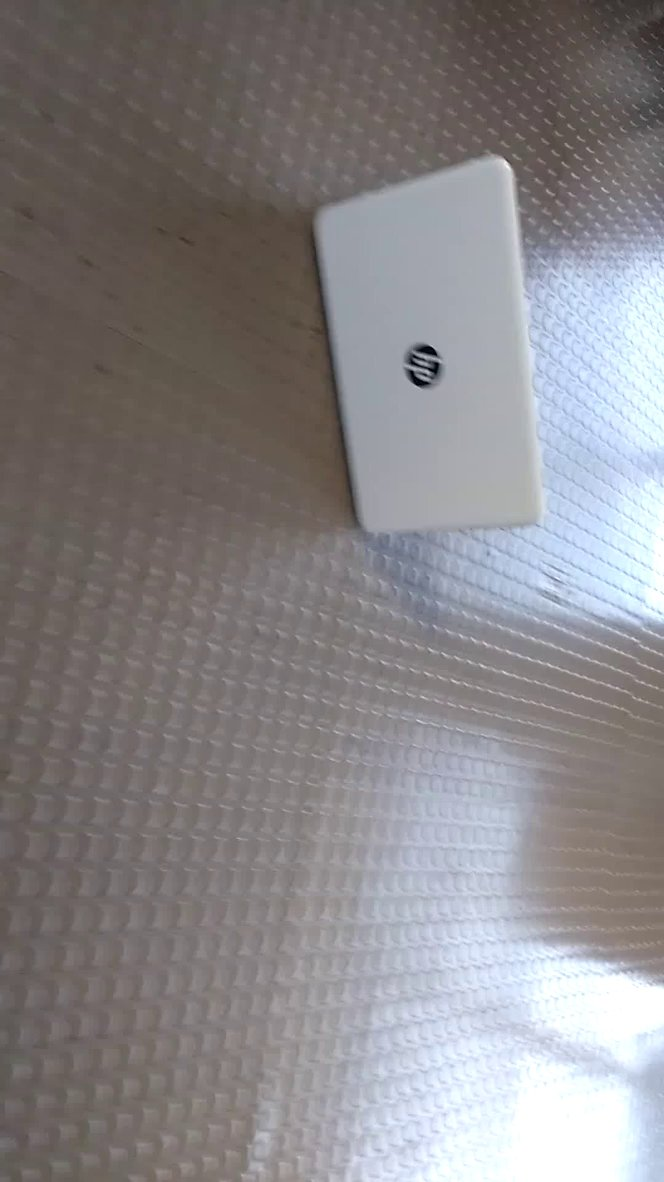laptop: (305, 148, 551, 546)
